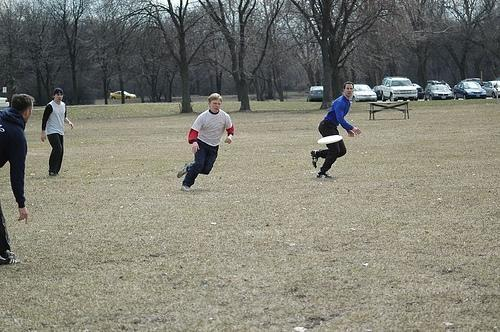car: (380, 77, 418, 102), (451, 82, 487, 100), (348, 83, 380, 102), (424, 82, 454, 101), (483, 80, 500, 99), (110, 90, 137, 100), (308, 85, 322, 102), (412, 83, 424, 100), (373, 84, 384, 101), (463, 78, 481, 85), (1, 98, 10, 108)
